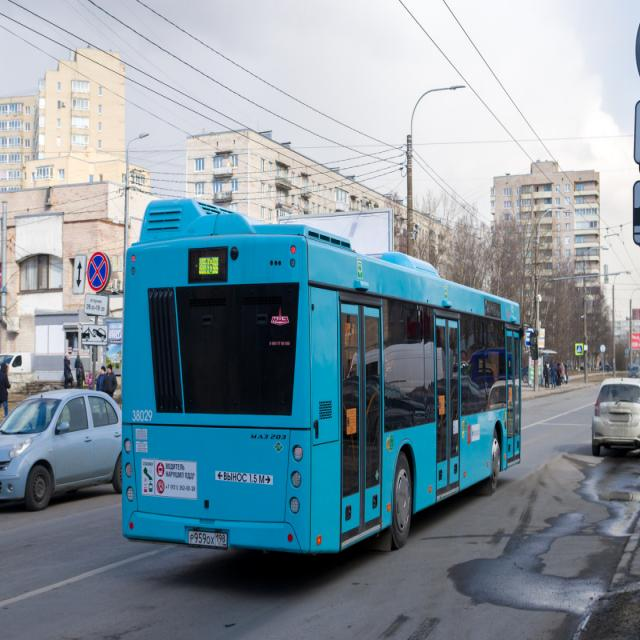number-of-bus: (202, 256, 219, 278)
